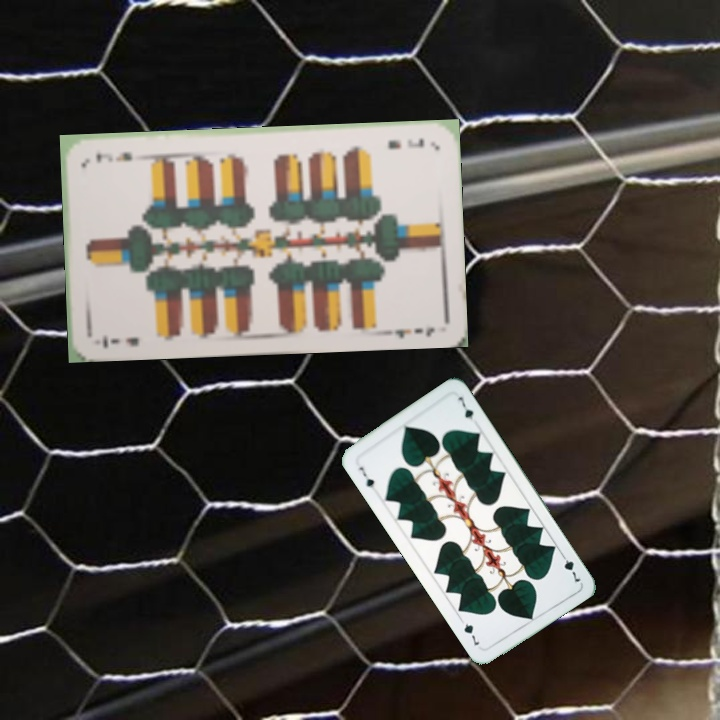E7: (99, 331, 141, 351), (384, 134, 427, 152)
G7: (556, 548, 583, 586), (355, 462, 378, 494)
